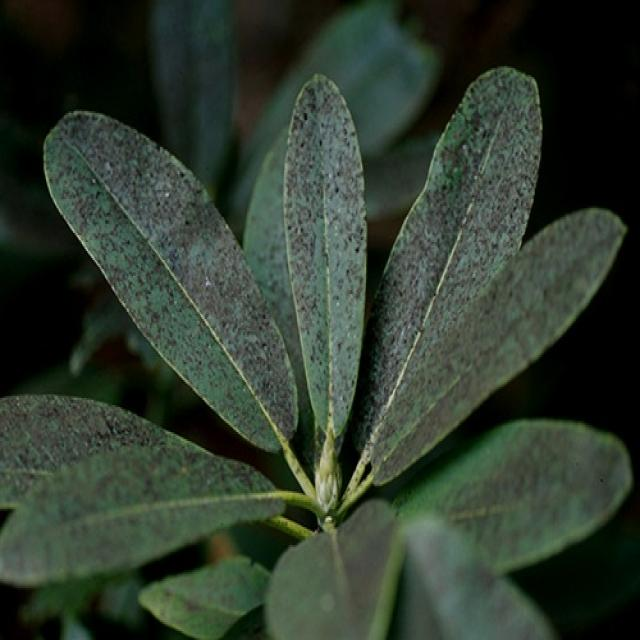Sooty Mold: (1, 61, 632, 638)
